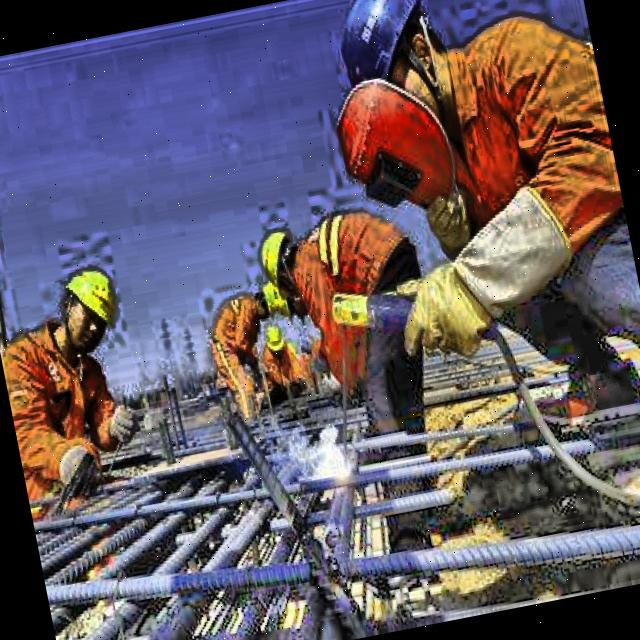helmet: (318, 0, 464, 145), (48, 258, 128, 358), (254, 223, 312, 289), (246, 279, 284, 323), (260, 316, 292, 359)
